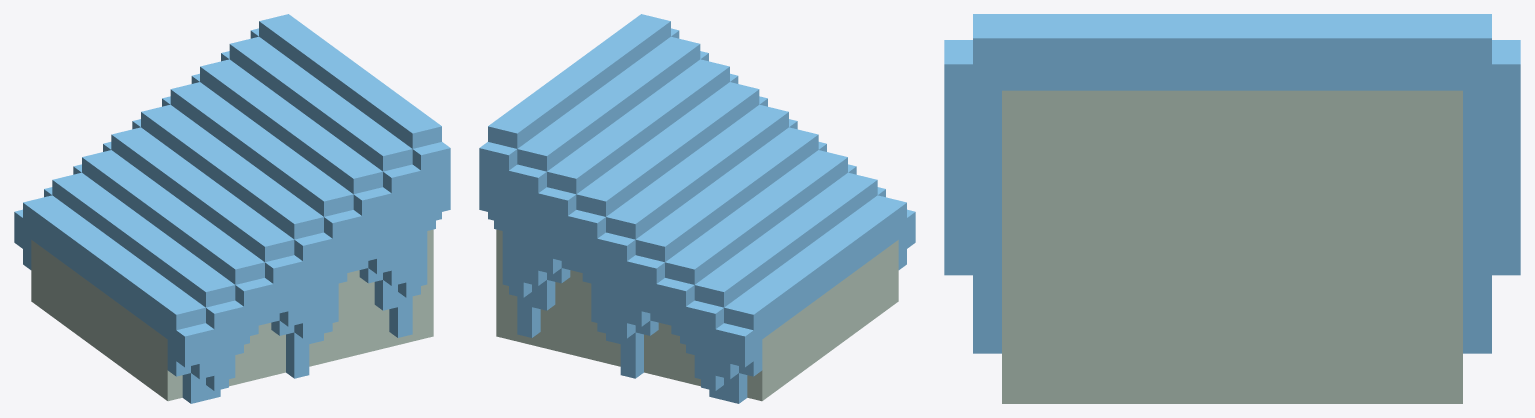
The model's file is Floors-16.obj.
3 renders of one model, left to right at view 1: azimuth 30°, elevation 25°; view 2: azimuth 150°, elevation 25°; view 3: azimuth 270°, elevation 25°, orthographic. The views are drawn at different scales.
Size of the model in its own units: 1.8 by 1.4 by 2.
